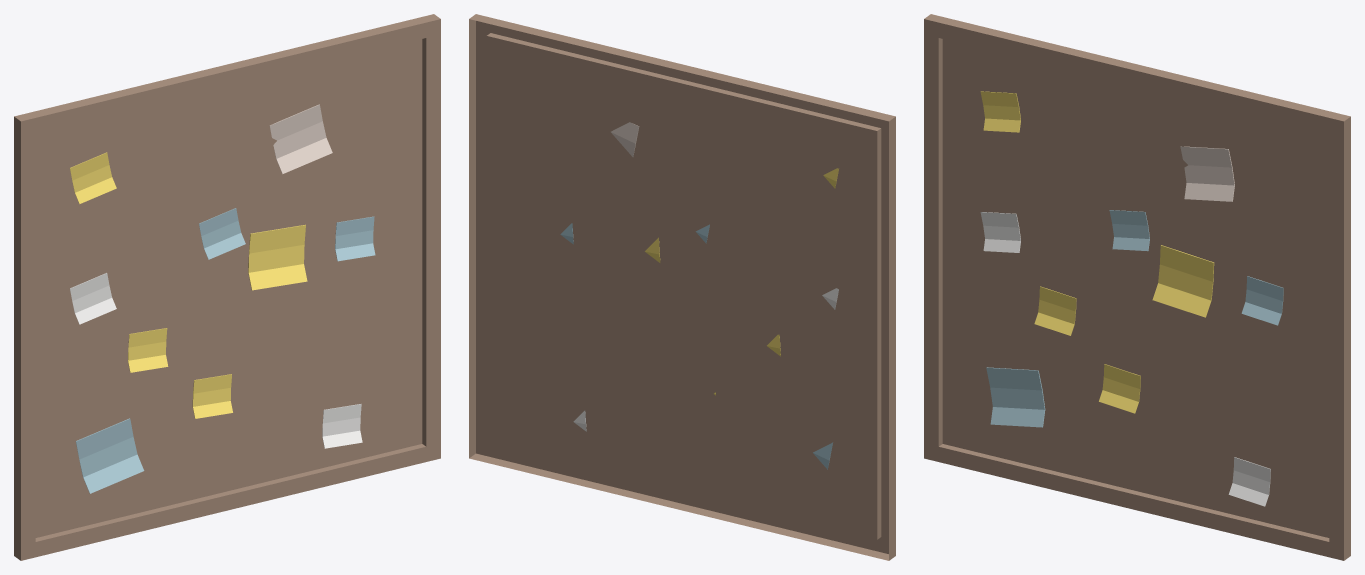
Rendered from Board_with_stikers.fbx.
3 renders of one model, left to right at view 1: azimuth 30°, elevation 25°; view 2: azimuth 150°, elevation 25°; view 3: azimuth 330°, elevation 25°, orthographic.
Visible parts, largest first — view 1: Board_with_stikers; view 2: Board_with_stikers; view 3: Board_with_stikers.
Part boxes in pixels (x1,y1,x2,y2): Board_with_stikers: (14,14,440,560); Board_with_stikers: (469,14,895,560); Board_with_stikers: (924,14,1350,560).
Size of the model in its own units: 95.61 by 3.71 by 95.61.
